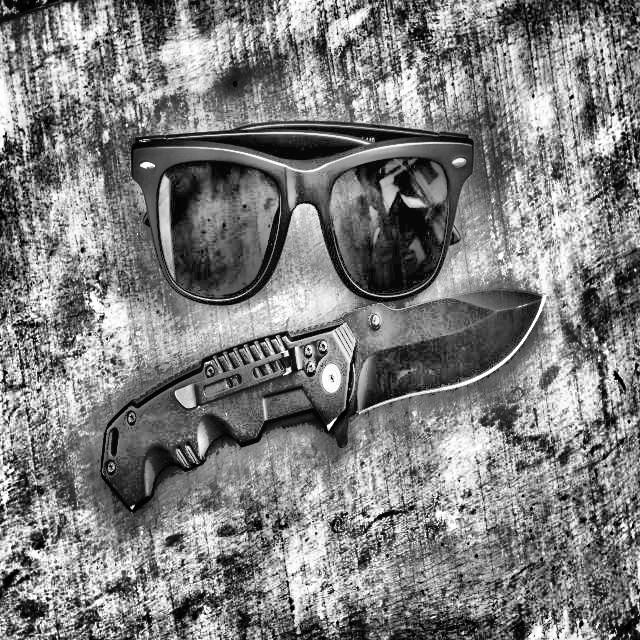knife: (101, 284, 546, 516)
